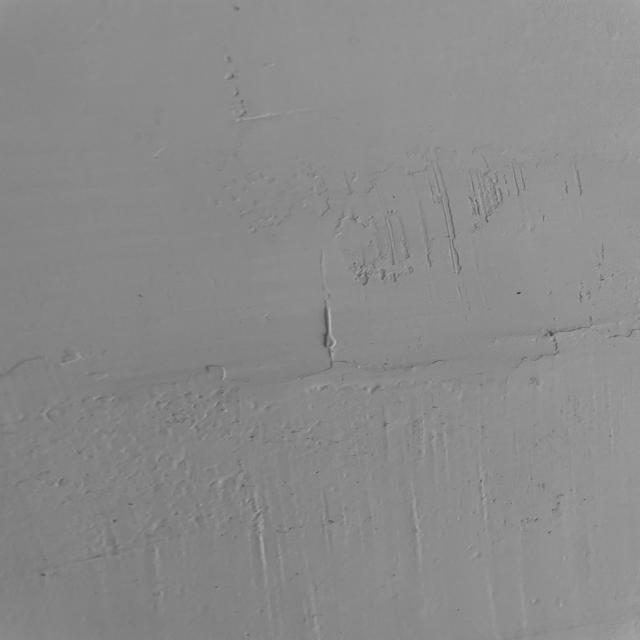rough and patchy surface: (0, 389, 640, 640), (217, 140, 640, 386), (0, 341, 233, 385), (220, 51, 268, 131)
